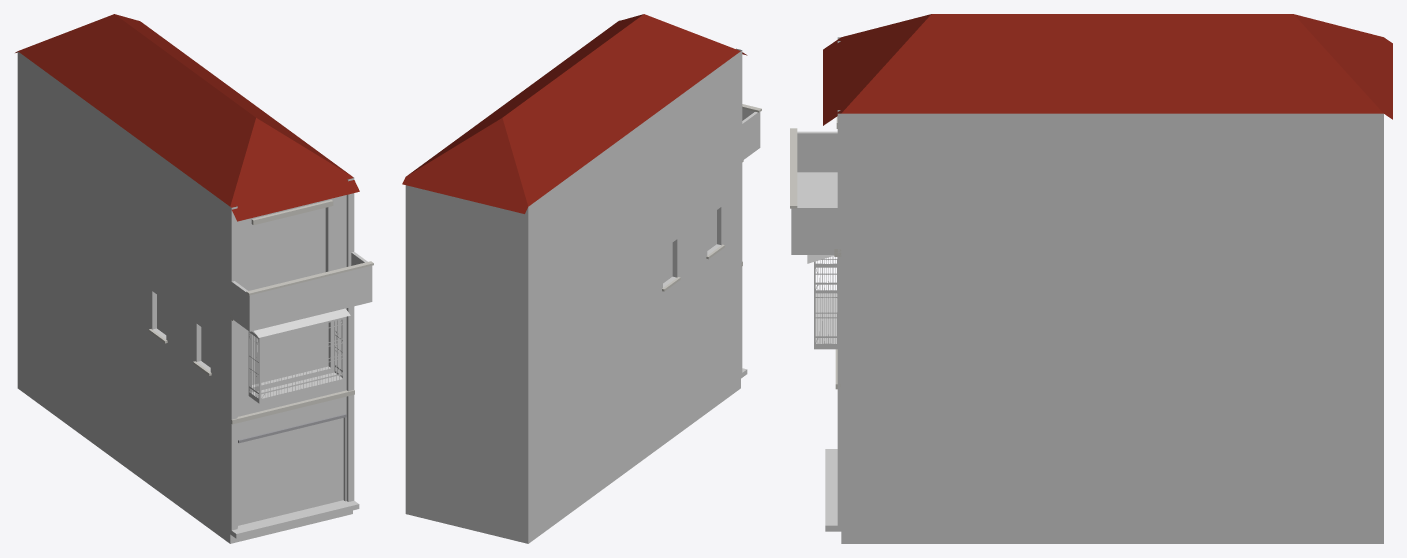
3 renders of one model, left to right at view 1: azimuth 30°, elevation 25°; view 2: azimuth 150°, elevation 25°; view 3: azimuth 270°, elevation 25°, orthographic. The views are drawn at different scales.
Visible parts, largest first — view 1: TH_D12_L_16_LOD0; view 2: TH_D12_L_16_LOD0; view 3: TH_D12_L_16_LOD0.
Boxes of the visible parts, bbox=[...] form: TH_D12_L_16_LOD0: bbox=[15, 14, 373, 543]; TH_D12_L_16_LOD0: bbox=[402, 14, 761, 543]; TH_D12_L_16_LOD0: bbox=[790, 14, 1392, 543].
Size of what is drawn, in the model's own units: 4.11 by 12 by 13.33.
